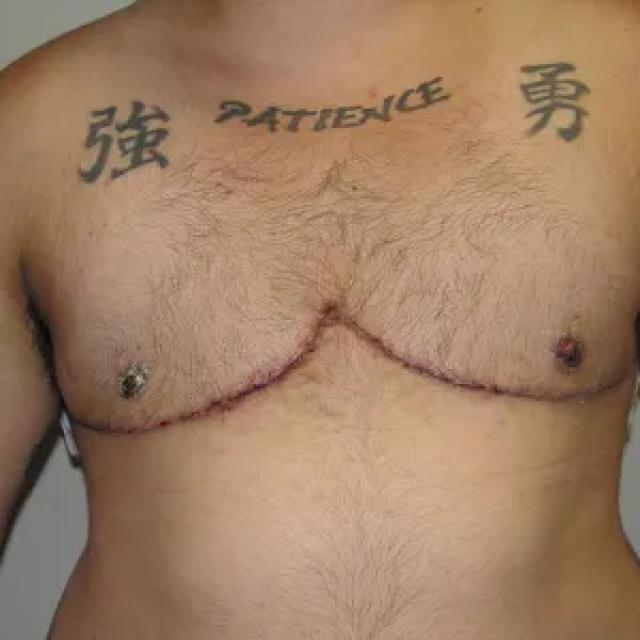Seno herido: (25, 195, 330, 469), (336, 190, 638, 437)
